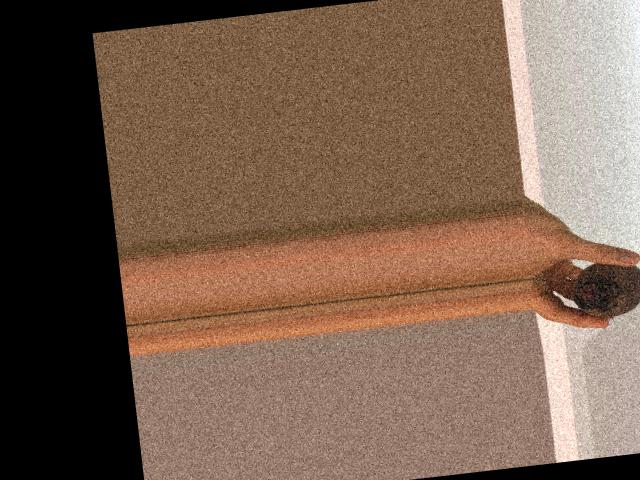beet: (527, 256, 640, 328)
